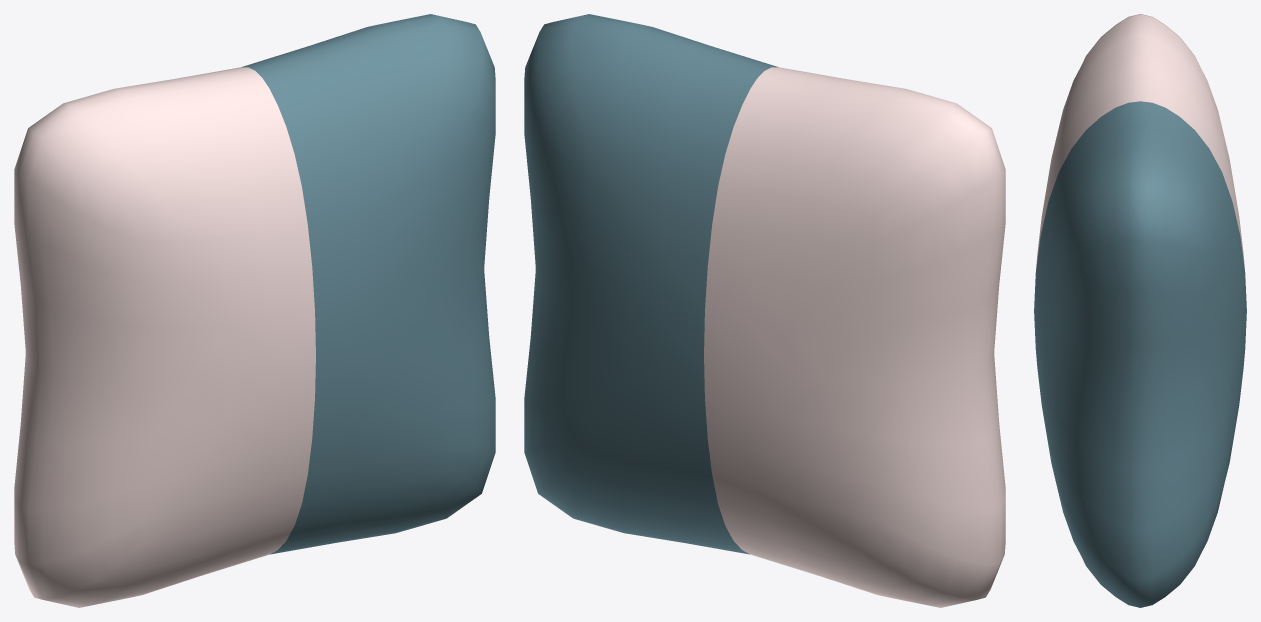
The model's file is Town_16_Pillow_3.glb.
3 renders of one model, left to right at view 1: azimuth 30°, elevation 25°; view 2: azimuth 150°, elevation 25°; view 3: azimuth 270°, elevation 25°, orthographic. The views are drawn at different scales.
Visible parts, largest first — view 1: Town_16_Pillow_3; view 2: Town_16_Pillow_3; view 3: Town_16_Pillow_3.
Part boxes in pixels (x1,y1,x2,y2): Town_16_Pillow_3: (14,14,495,607); Town_16_Pillow_3: (524,14,1005,607); Town_16_Pillow_3: (1034,14,1246,607).
Size of the model in its own units: 0.5363 by 0.5491 by 0.2411.
1 material, 1 textured.
